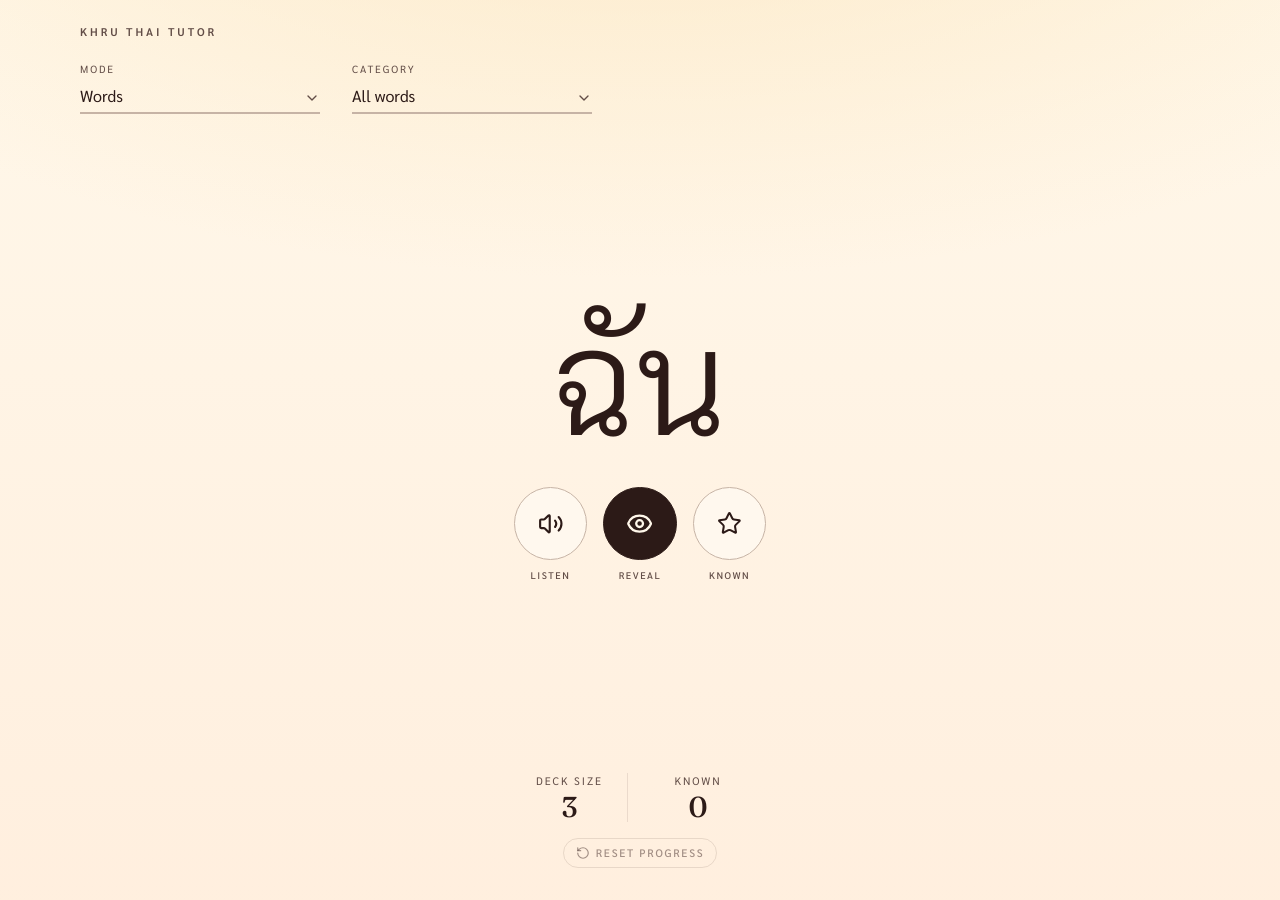
Test case: App › filters conversation cards by category
Select "Conversation" in the dropdown named "study mode": (200, 97) [80,80,320,114]
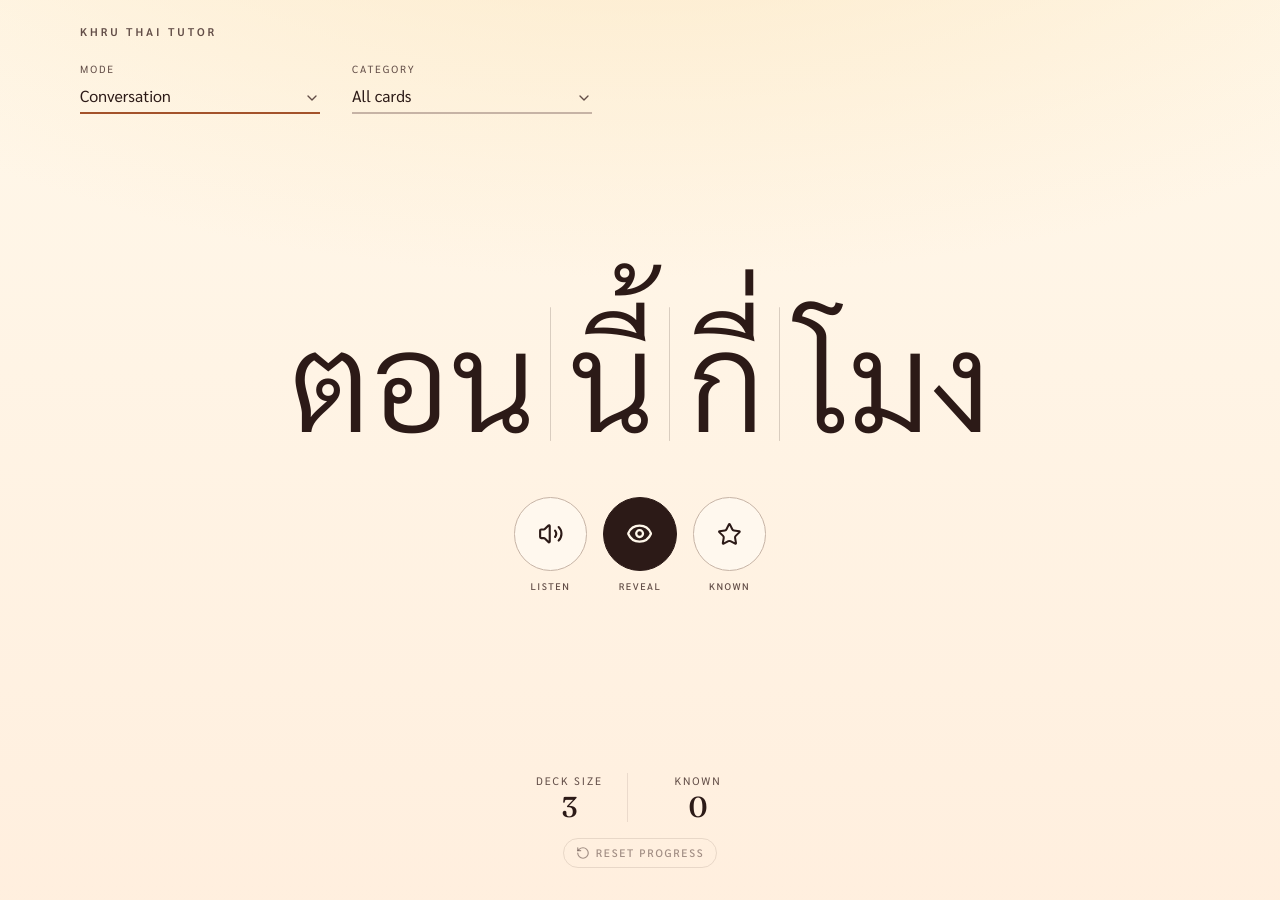
Select "Directions" in the dropdown named "study category": (472, 97) [352,80,592,114]
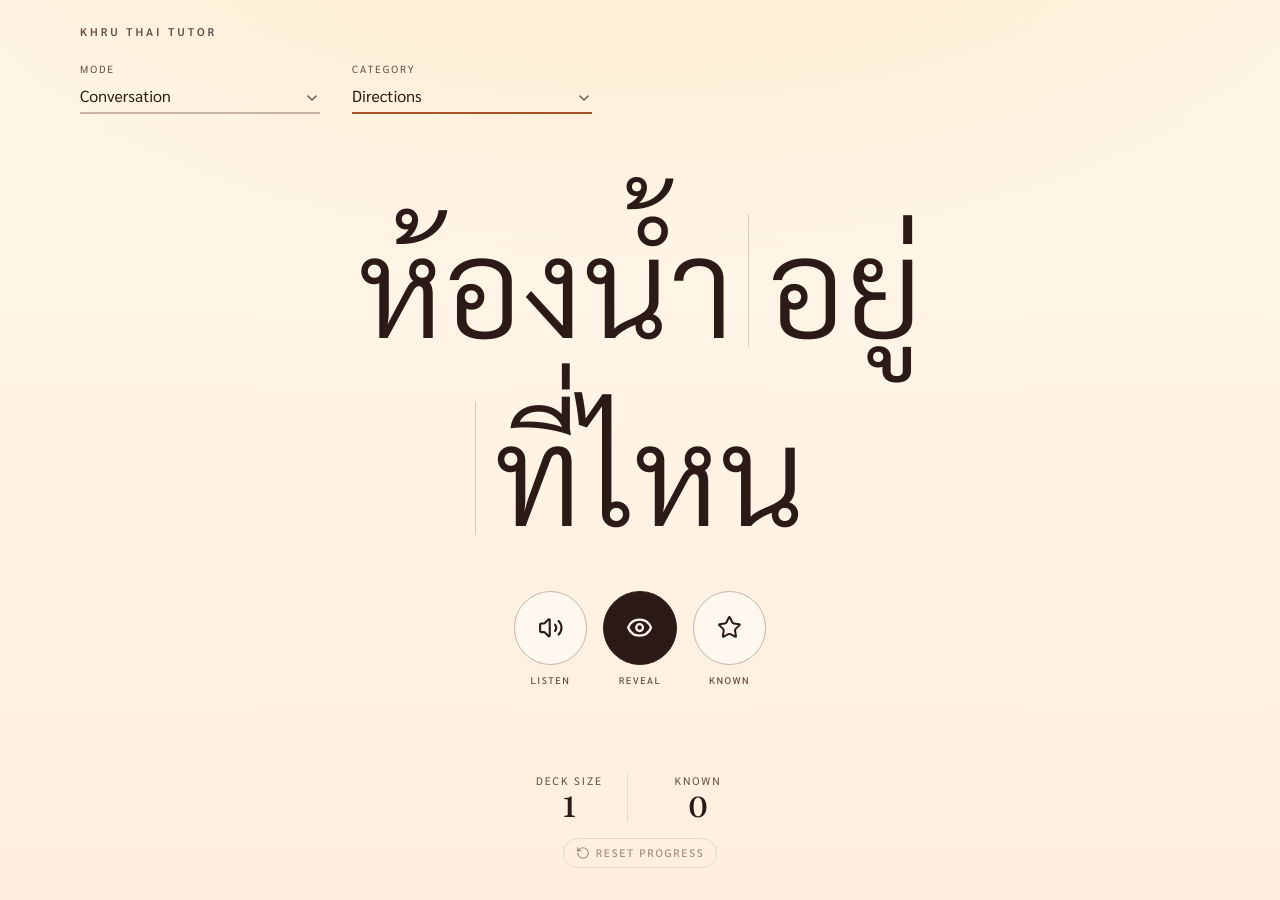
Expected: the text with test id "total-count" reads "1", [563,789,576,824]
Select "All cards" in the dropdown named "study category": (472, 97) [352,80,592,114]
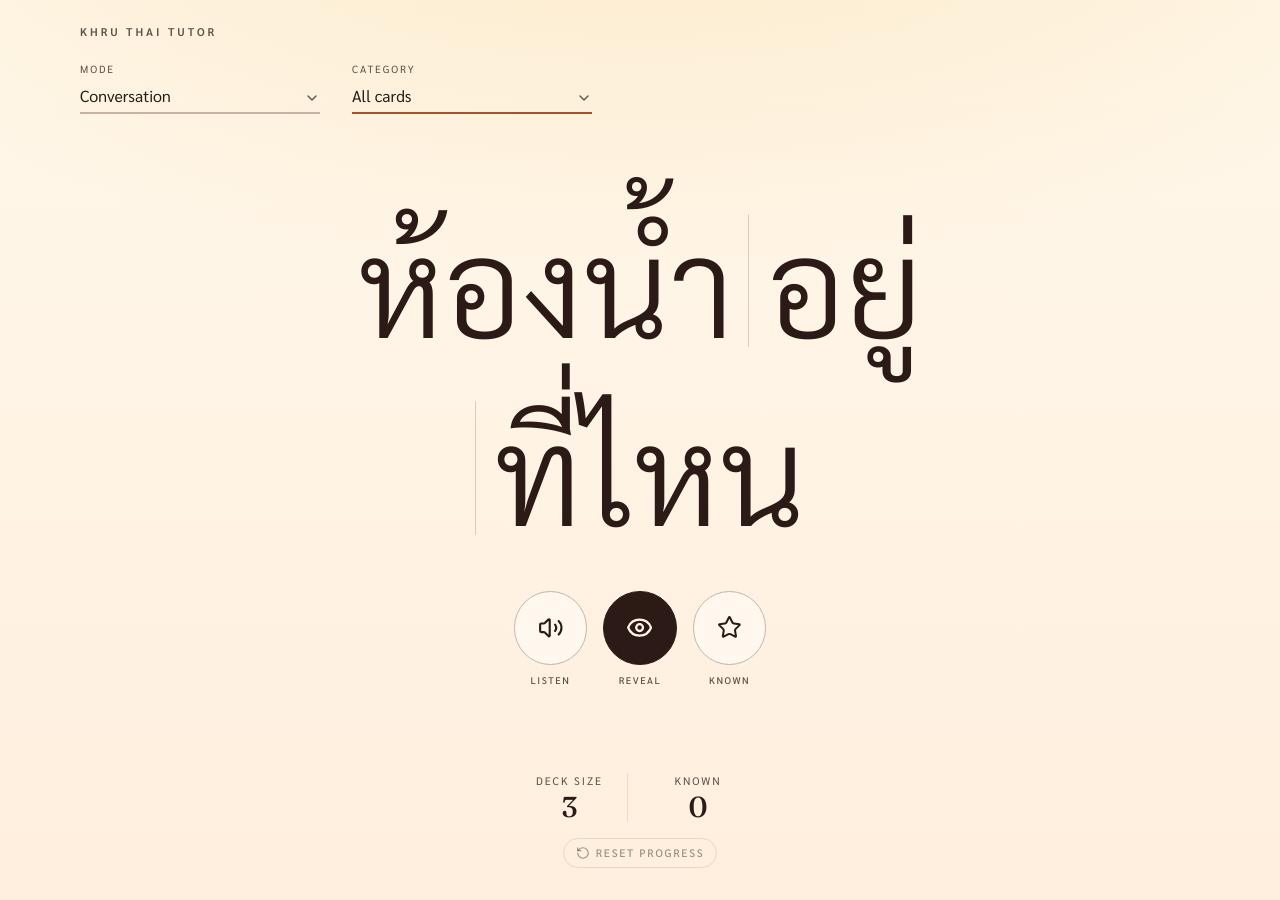
Expected: the text with test id "total-count" reads "3", [562,789,577,824]
